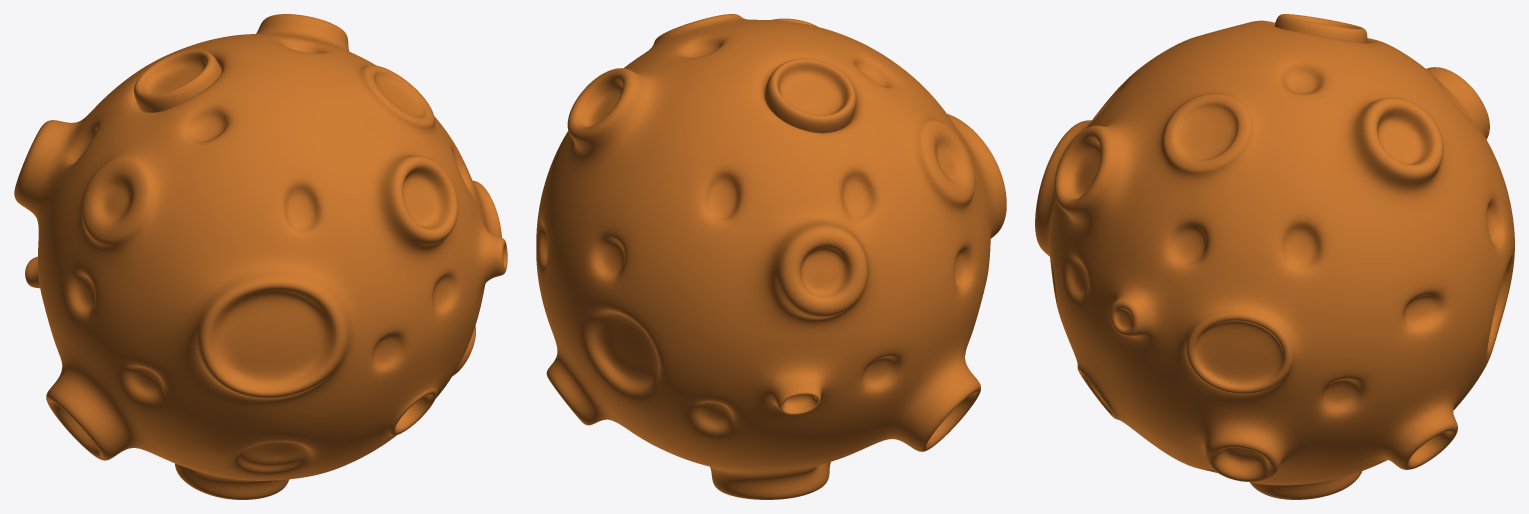
File: planet-1.glb
3 renders of one model, left to right at view 1: azimuth 30°, elevation 25°; view 2: azimuth 150°, elevation 25°; view 3: azimuth 270°, elevation 25°, orthographic. The views are drawn at different scales.
Visible parts, largest first — view 1: Roundcube; view 2: Roundcube; view 3: Roundcube.
Part boxes in pixels (bbox=[...]): Roundcube: bbox=[14, 14, 507, 499]; Roundcube: bbox=[536, 14, 1006, 499]; Roundcube: bbox=[1035, 14, 1514, 499].
Size of the model in its own units: 1.65 by 1.64 by 1.6.
